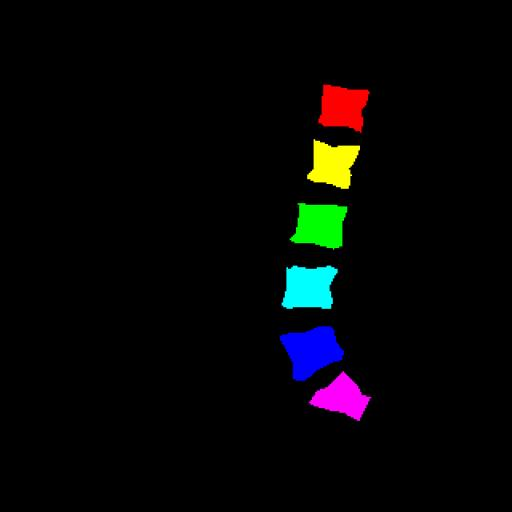L1: (318, 85, 369, 132)
L2: (307, 139, 360, 189)
L3: (290, 203, 347, 248)
L4: (282, 266, 338, 309)
L5: (280, 326, 344, 381)
S1: (309, 372, 371, 421)
